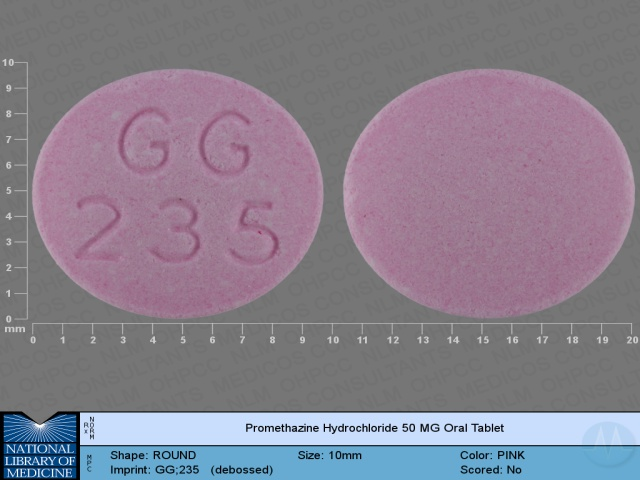2: (68, 194, 128, 264)
3: (146, 193, 203, 269)
5: (227, 200, 283, 270)
G: (114, 105, 173, 178), (194, 107, 253, 180)
